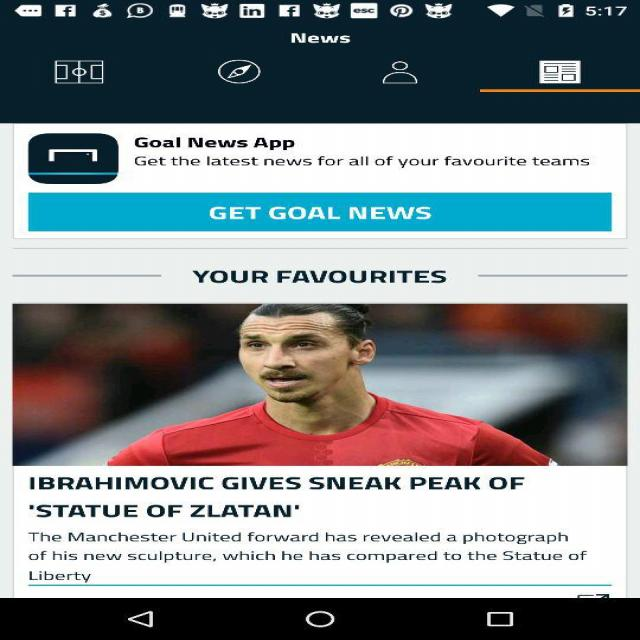text: (6, 122, 640, 613)
